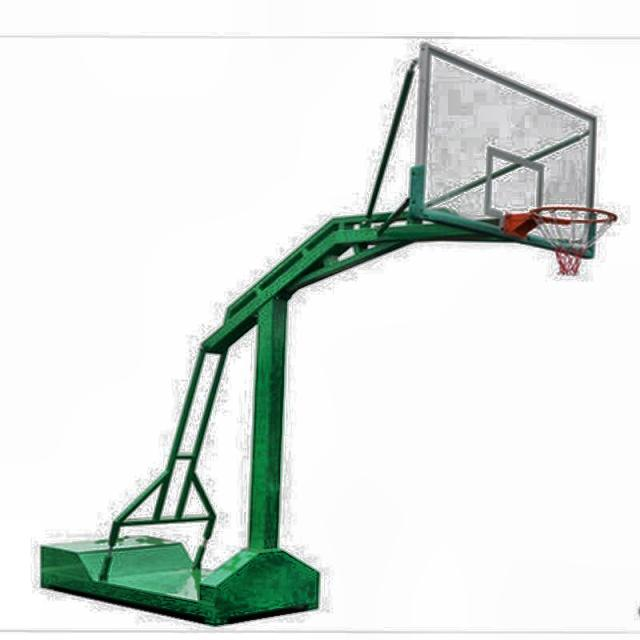rim: (528, 204, 618, 277)
